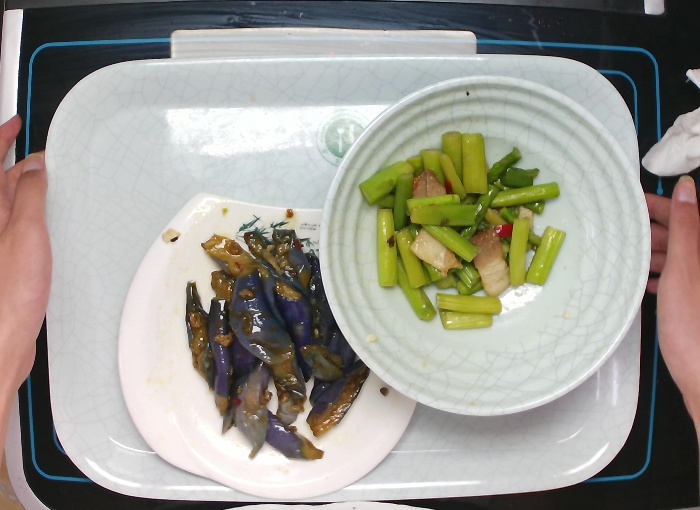JYsf-Da_Tang_Wan: (317, 66, 659, 423)
JYsf-Mian_Pan: (112, 184, 426, 504)
